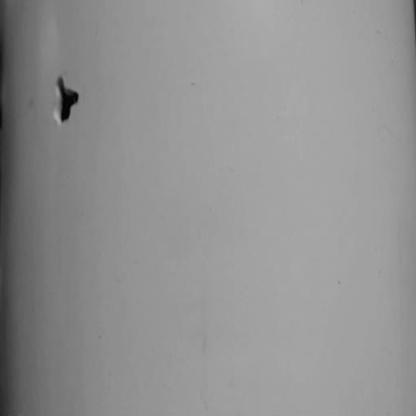kongdong: (46, 75, 89, 133)
